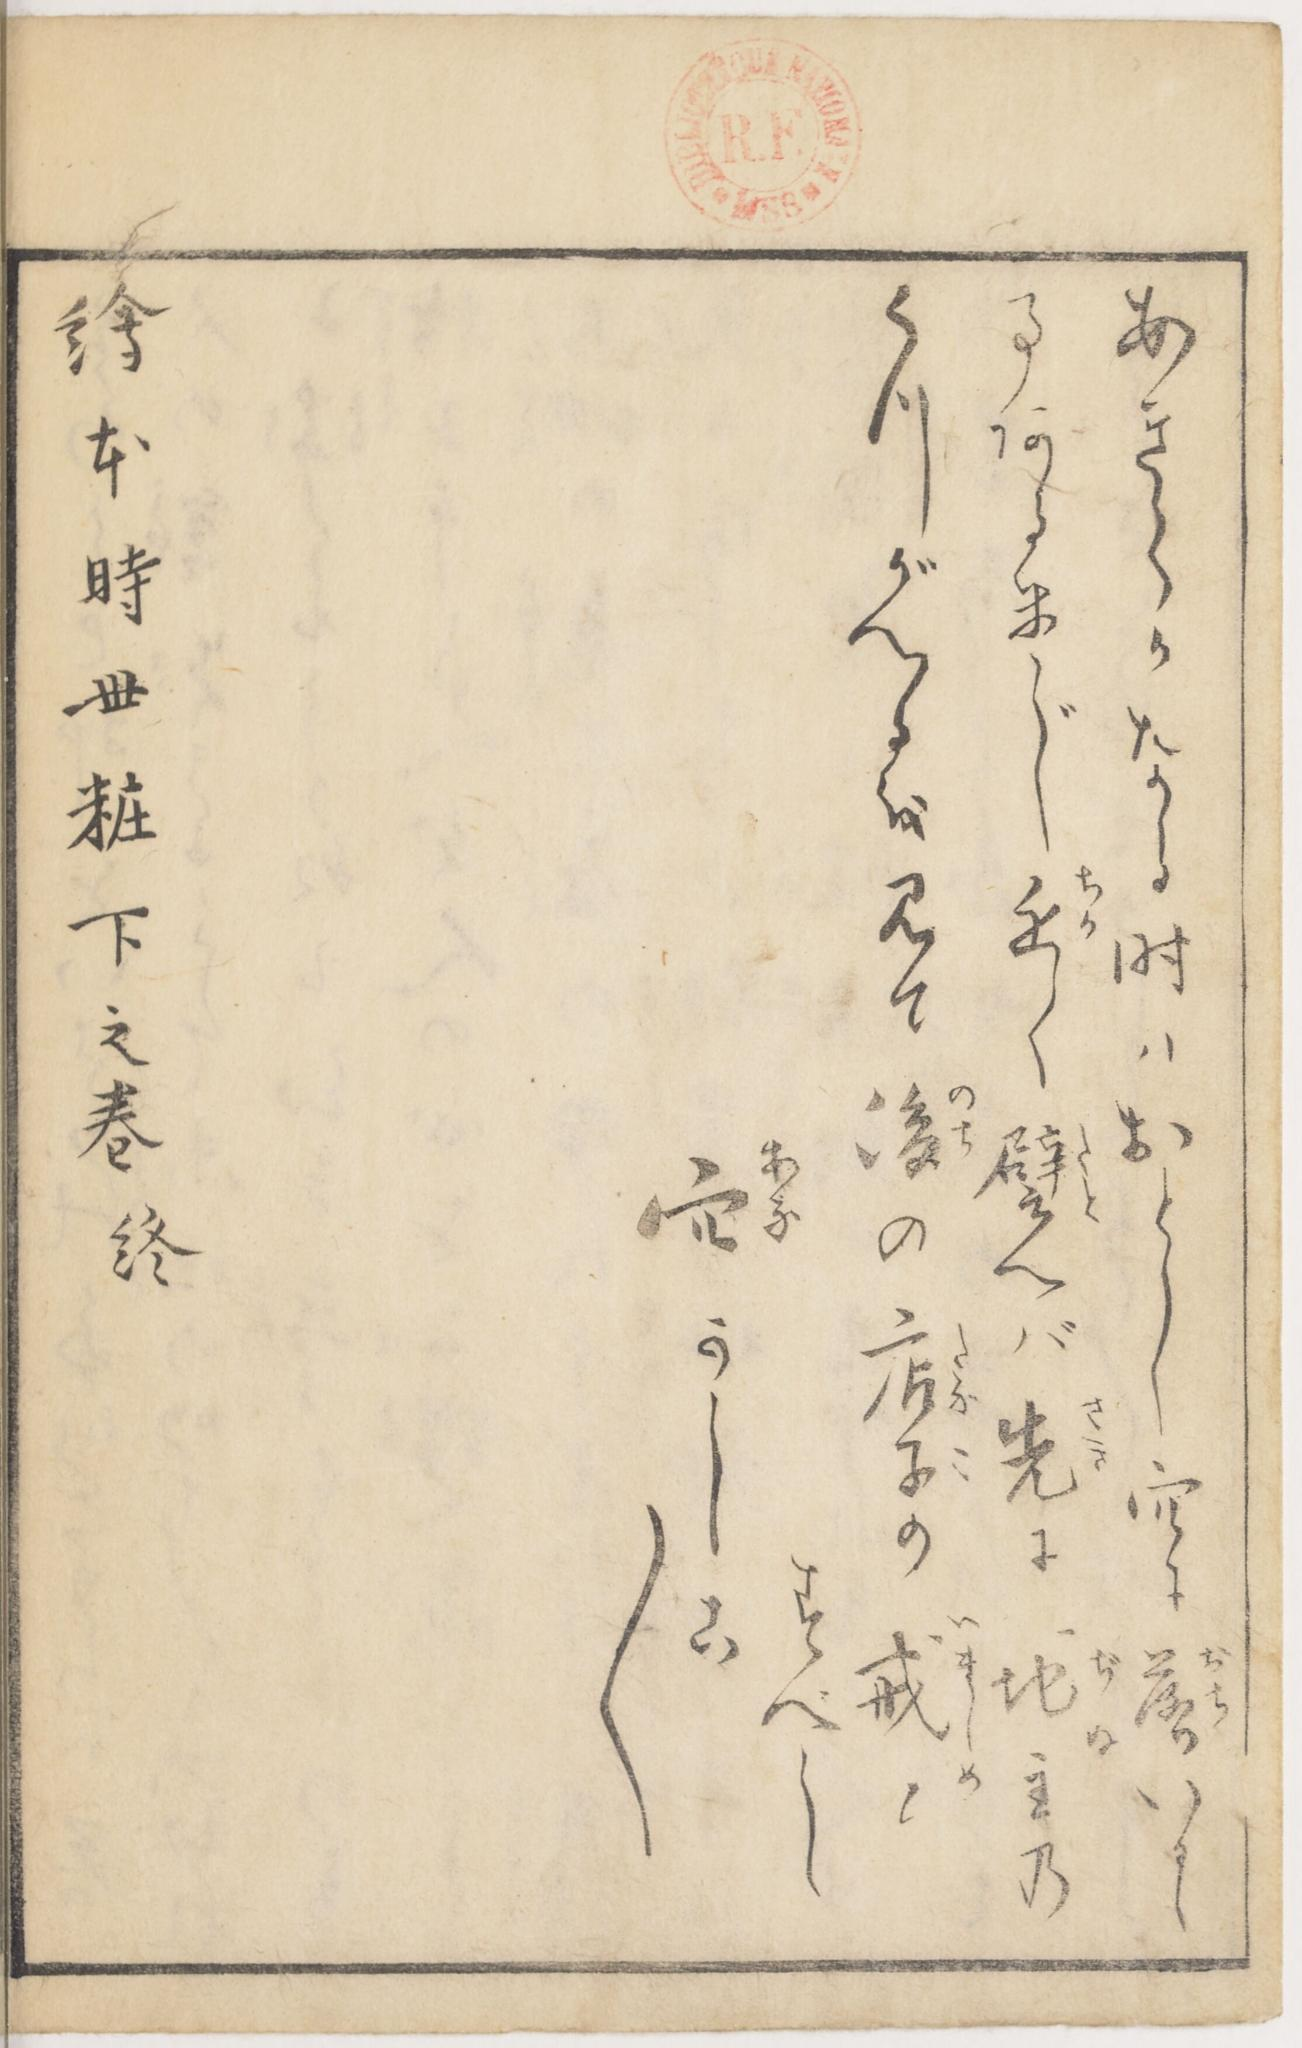MainZone-Character: (650, 1115, 812, 1288), (842, 1073, 993, 1190), (857, 1611, 993, 1738), (1000, 1390, 1124, 1511), (988, 1112, 1112, 1229), (863, 1303, 979, 1427), (1012, 1717, 1129, 1835), (1136, 1636, 1245, 1755), (884, 1739, 999, 1835), (1005, 864, 1111, 966), (997, 1635, 1130, 1712)
MainZone-Ruby: (754, 1120, 811, 1252), (1063, 1112, 1111, 1234), (942, 1606, 984, 1736), (1196, 1640, 1247, 1742), (941, 1317, 981, 1427), (1078, 1385, 1123, 1482), (947, 1073, 990, 1164), (1069, 864, 1108, 949), (953, 1751, 1005, 1806), (1083, 1640, 1129, 1690), (1083, 1715, 1124, 1767)
